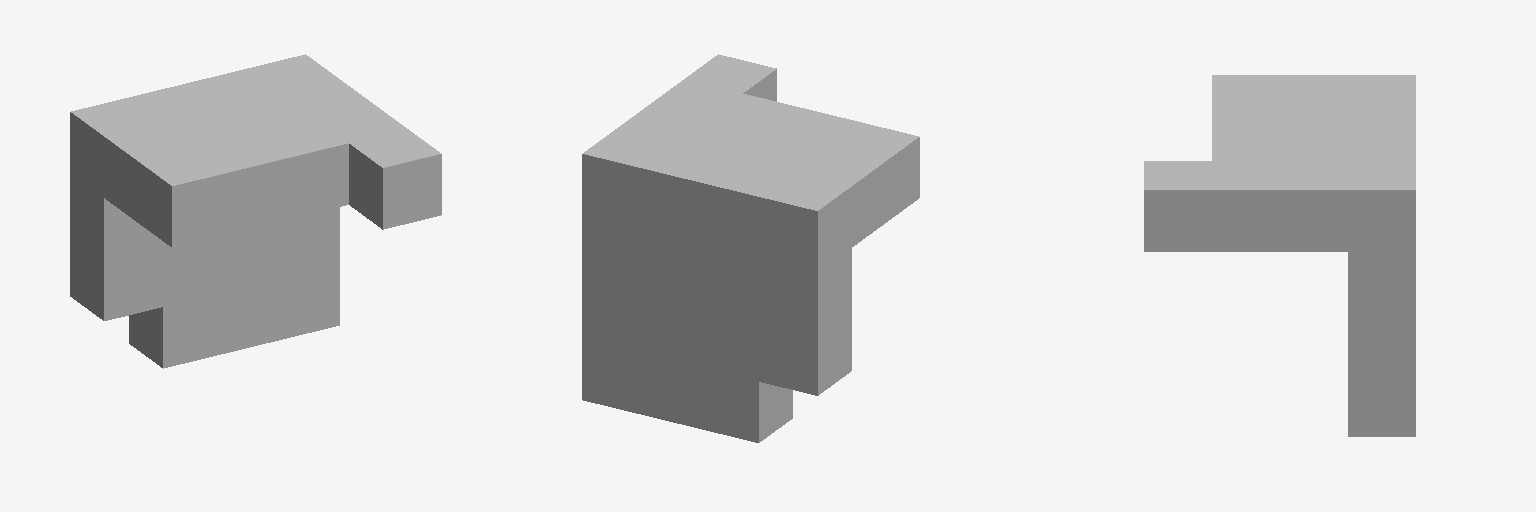
The model's file is E3-ActFin02.obj.
3 views of the same model, side by side, from view 1: azimuth 30°, elevation 25°; view 2: azimuth 150°, elevation 25°; view 3: azimuth 270°, elevation 25° (orthographic).
Parts seen in each view (by area): view 1: mesh8, mesh4, mesh2, mesh5, mesh0, mesh1, mesh10; view 2: mesh7, mesh4, mesh5, mesh10, mesh1; view 3: mesh6, mesh4.
Part boxes in pixels (x1,y1,x2,y2): mesh8: (104,198,339,368); mesh4: (71,54,440,185); mesh2: (172,143,348,247); mesh5: (70,112,171,320); mesh0: (383,154,441,229); mesh1: (349,144,382,229); mesh10: (129,307,162,367); mesh7: (582,154,817,442); mesh4: (583,54,918,210); mesh5: (818,137,919,395); mesh10: (759,382,792,442); mesh1: (743,69,776,101); mesh6: (1144,190,1415,436); mesh4: (1144,75,1415,189).
Size of the model in its own units: 0.04 by 0.04 by 0.04.